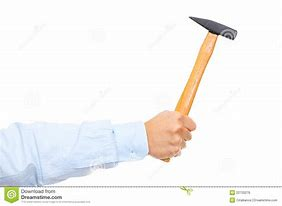hammer: (151, 14, 239, 163)
